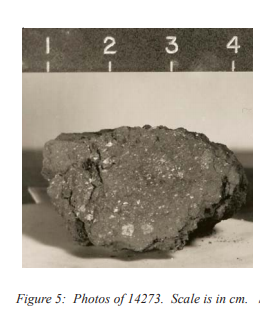Breccia: (20, 95, 253, 262)
